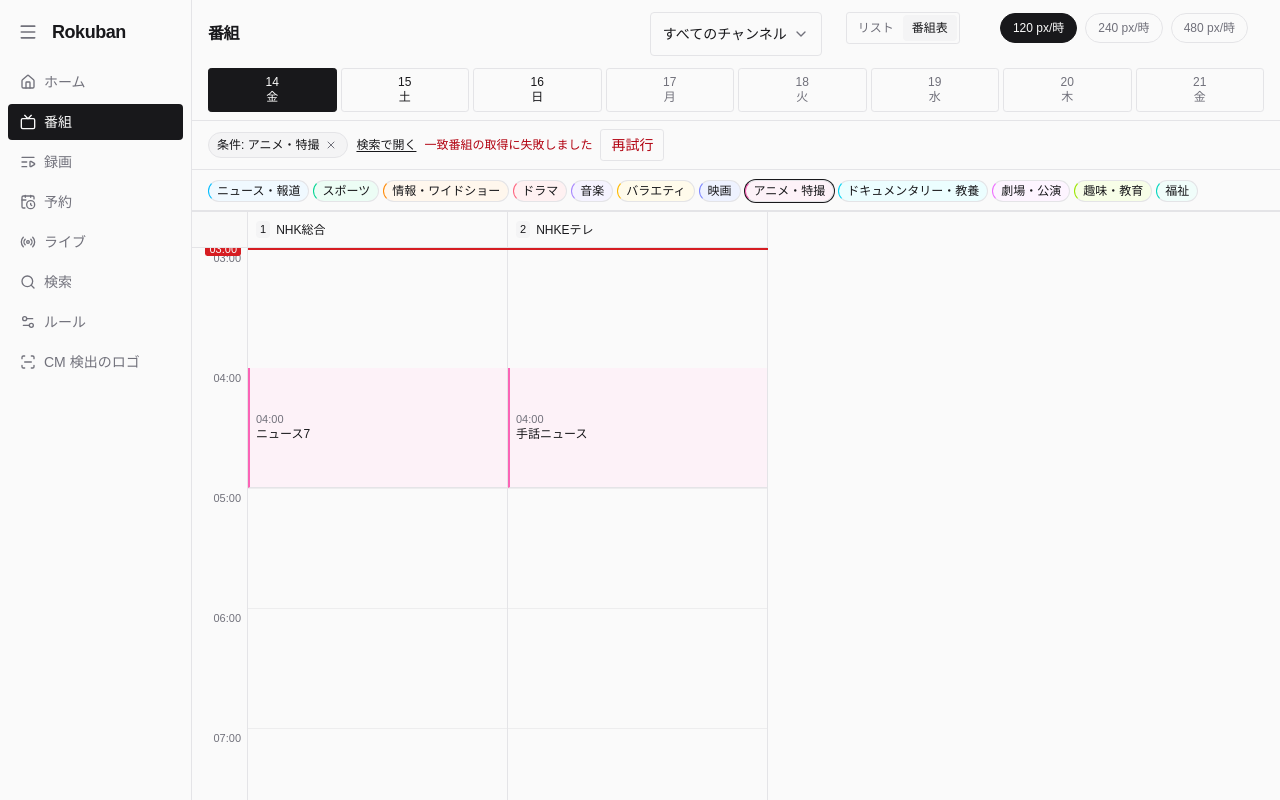
Test: ProgramsPage の表示形式 › 一致 API の失敗中は全番組を保ち、再試行後に一致集合を反映する
Expected: the message shows "一致番組の取得に失敗しました", [424,138,592,152]
Click the button "再試行".
click(632, 145)  # box [600,129,664,161]
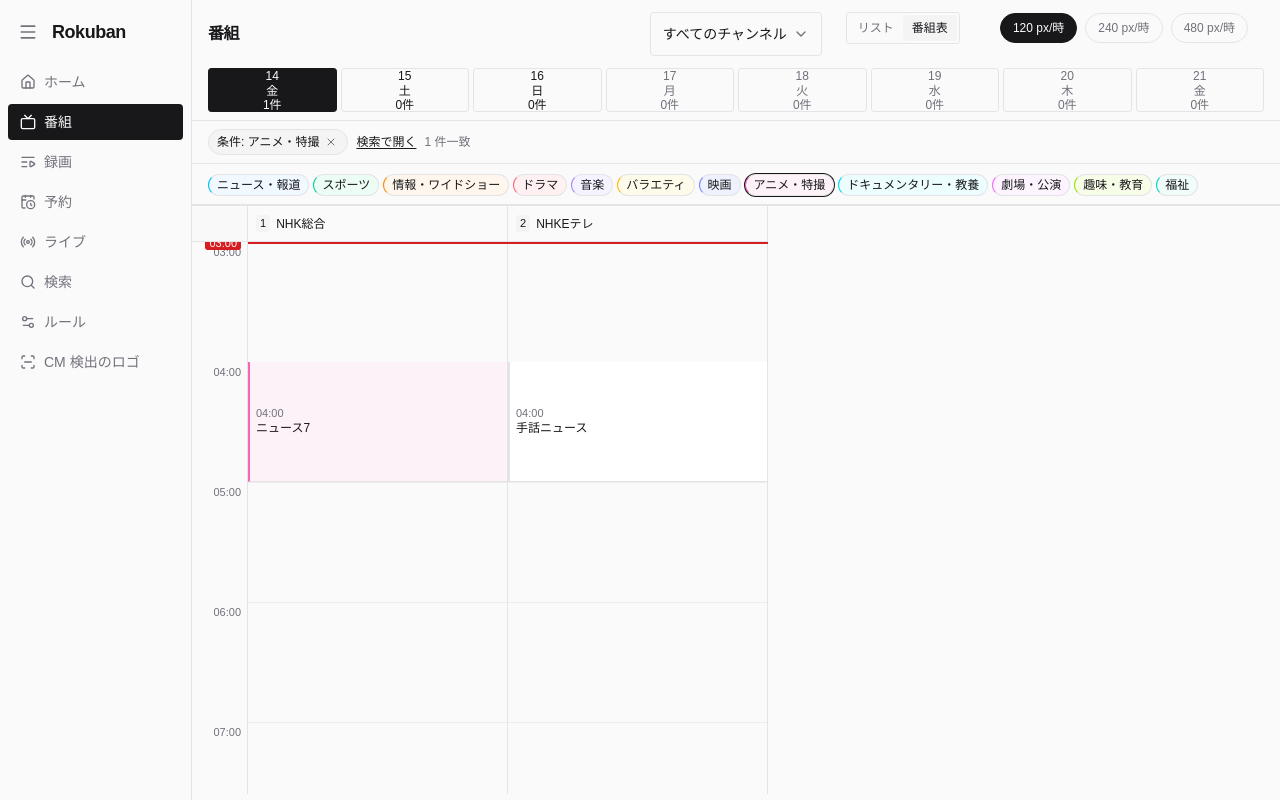
Now the text "1 件一致" is shown, box [424,134,470,150]
